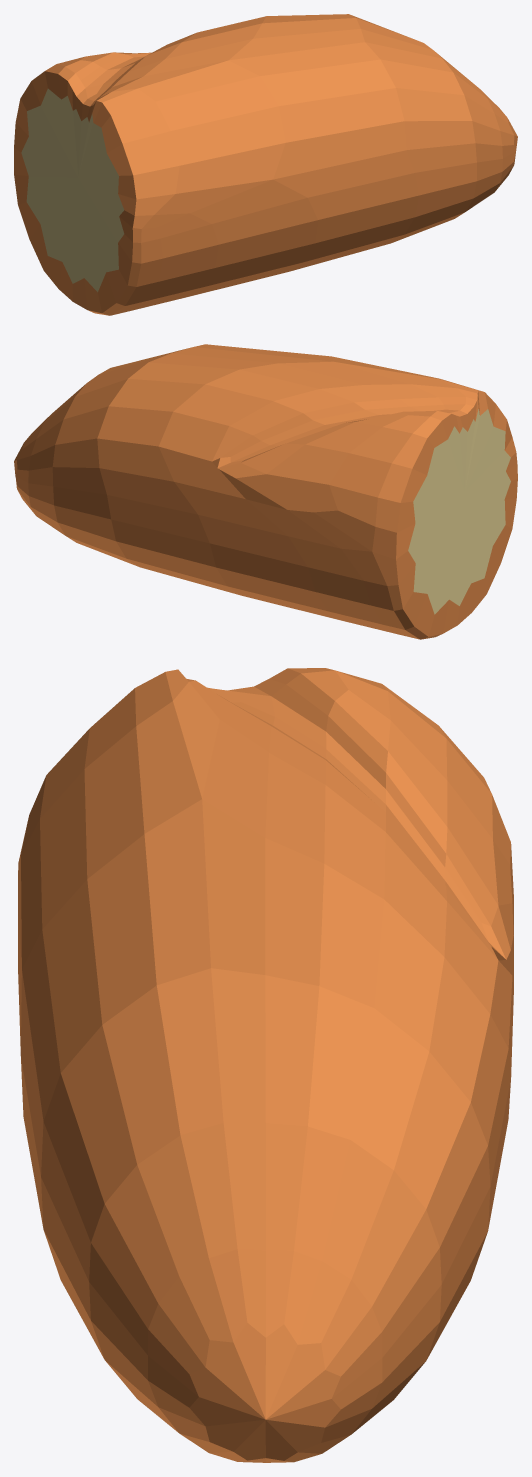
The model's file is BaugetteRight.fbx.
The picture shows the model from 3 angles, top to bottom: view 1: azimuth 30°, elevation 25°; view 2: azimuth 150°, elevation 25°; view 3: azimuth 270°, elevation 25°; orthographic projection. The views are drawn at different scales.
Parts seen in each view (by area): view 1: Куб.004; view 2: Куб.004; view 3: Куб.004.
Boxes of the visible parts, x1,y1,x2,y2 form: Куб.004: [14, 14, 517, 315]; Куб.004: [14, 344, 517, 639]; Куб.004: [18, 668, 513, 1462].
Size of the model in its own units: 207 by 99.25 by 100.
